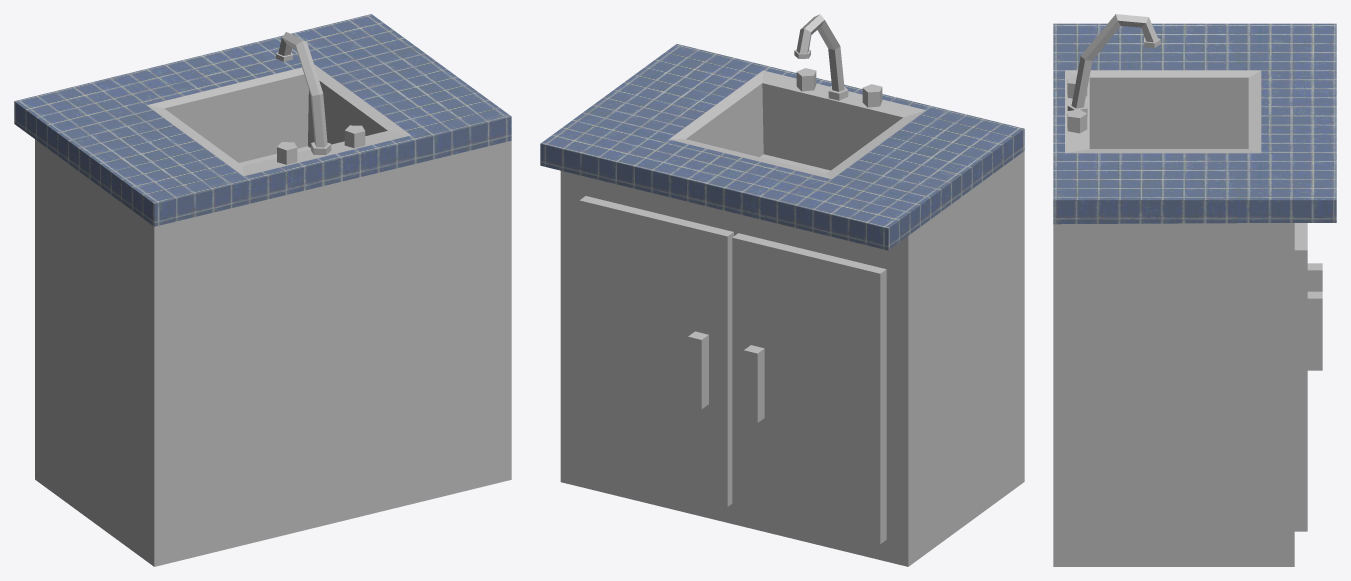
File: Rakovina.fbx
3 views of the same model, side by side, from view 1: azimuth 30°, elevation 25°; view 2: azimuth 150°, elevation 25°; view 3: azimuth 270°, elevation 25° (orthographic). The views are drawn at different scales.
Parts seen in each view (by area): view 1: Cube.214; view 2: Cube.214, Cube.213, Cube.212; view 3: Cube.214, Cube.212, Cube.213.
Boxes of the visible parts, left/top/right/bottom form: Cube.214: left=14, top=14, right=511, bottom=566; Cube.214: left=540, top=14, right=1024, bottom=566; Cube.213: left=732, top=233, right=886, bottom=544; Cube.212: left=579, top=196, right=733, bottom=506; Cube.214: left=1053, top=14, right=1336, bottom=566; Cube.212: left=1294, top=223, right=1322, bottom=531; Cube.213: left=1307, top=263, right=1322, bottom=291.
Size of the model in its own units: 212 by 261 by 144.
